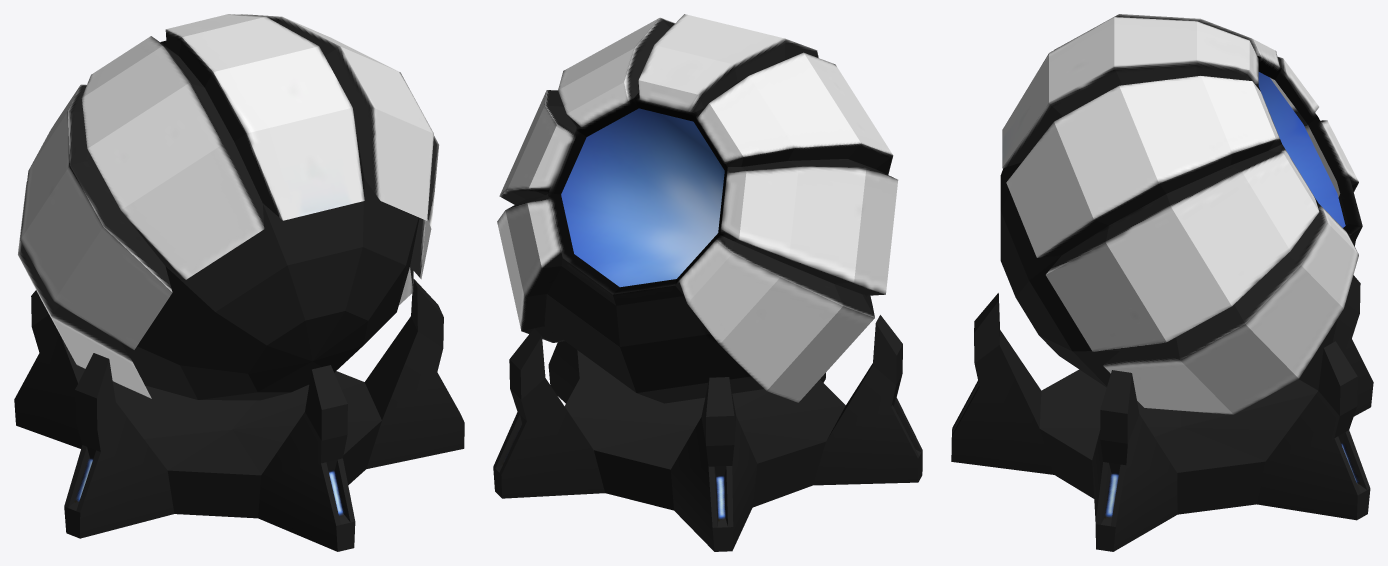
File: TDTornSlow3.fbx
3 renders of one model, left to right at view 1: azimuth 30°, elevation 25°; view 2: azimuth 150°, elevation 25°; view 3: azimuth 270°, elevation 25°, orthographic. The views are drawn at different scales.
Visible parts, largest first — view 1: polySurface74, polySurface59; view 2: polySurface74, polySurface59; view 3: polySurface74, polySurface59.
Boxes of the visible parts, x1,y1,x2,y2 form: polySurface74: [18, 14, 439, 400]; polySurface59: [14, 279, 464, 551]; polySurface74: [497, 14, 898, 403]; polySurface59: [493, 315, 922, 551]; polySurface74: [1000, 14, 1362, 414]; polySurface59: [951, 275, 1373, 551].
Bounding box in the file's own units: 19.8 × 20.73 × 18.95.
